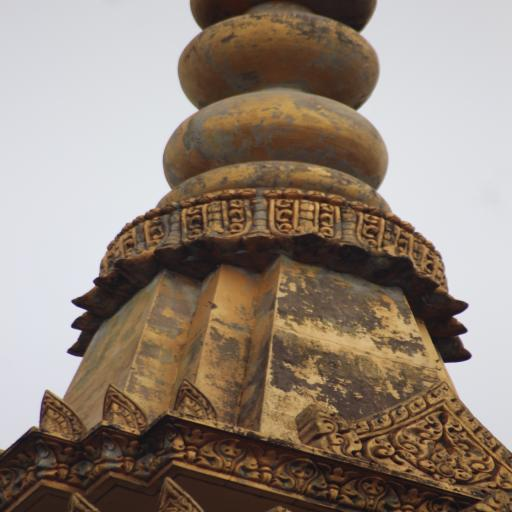la: (404, 410, 476, 483), (182, 193, 248, 244), (267, 196, 340, 241), (269, 453, 326, 503), (118, 213, 174, 262), (204, 432, 256, 480), (343, 473, 397, 512), (88, 436, 134, 477), (360, 210, 400, 254), (368, 434, 408, 474), (28, 441, 65, 480), (151, 428, 188, 467), (459, 454, 498, 486), (412, 237, 440, 279)
